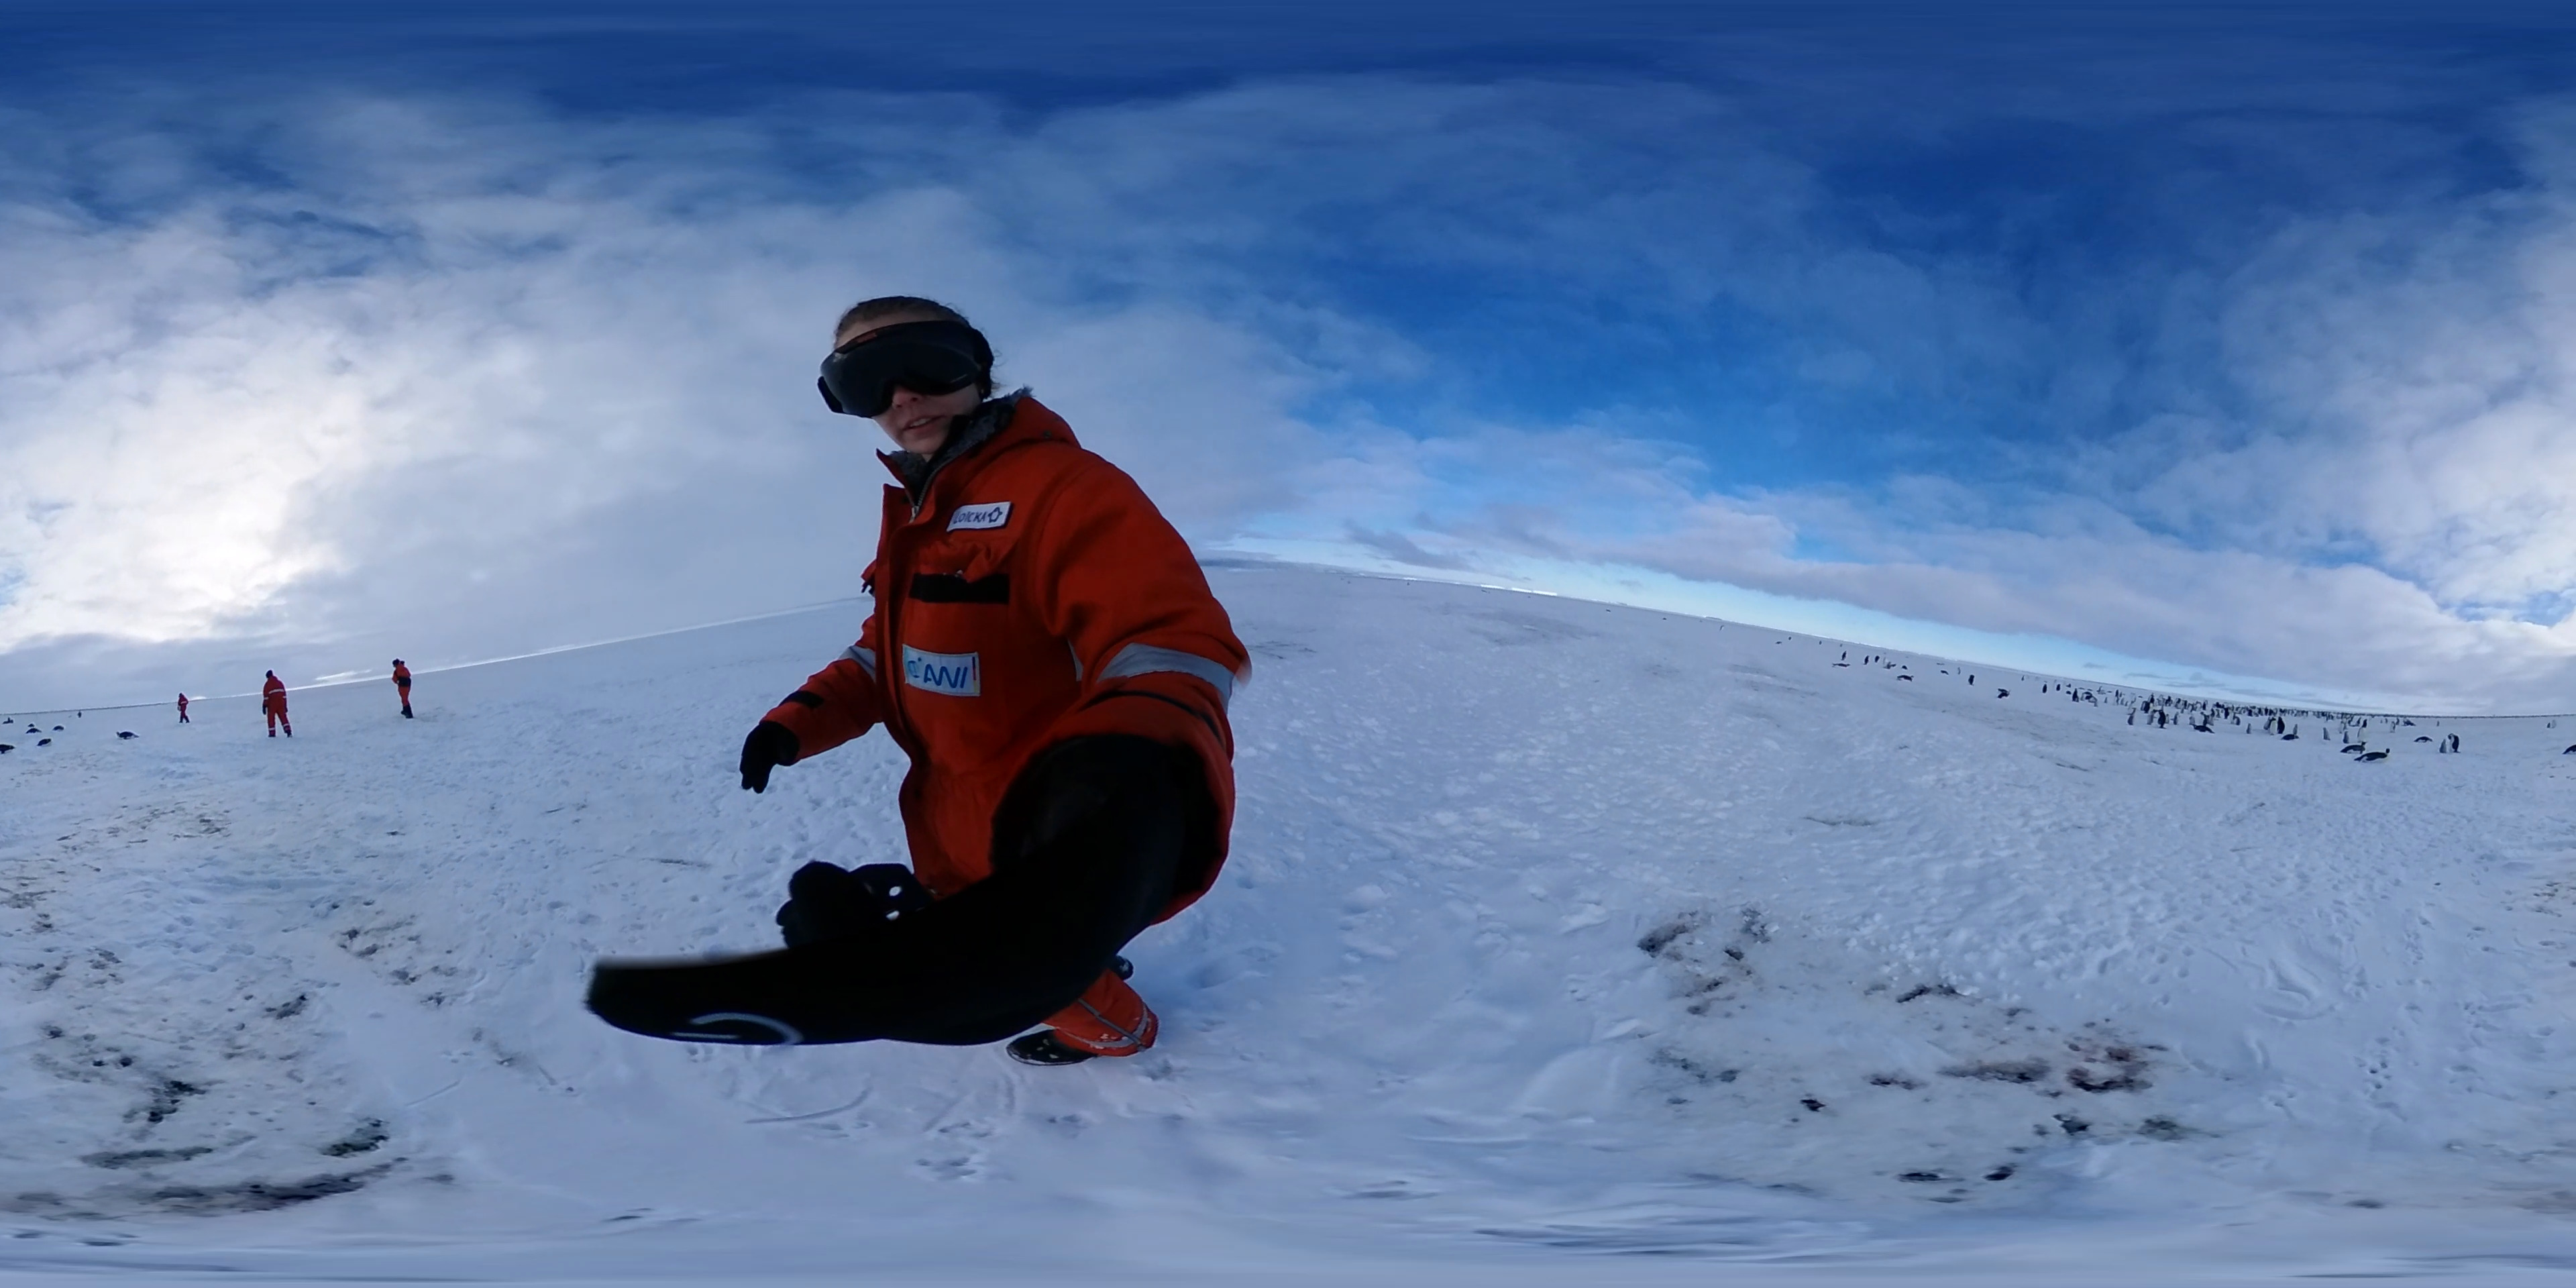adult_standing_penguin: (2448, 731, 2463, 757)
adult_toboggan_penguin: (2356, 746, 2390, 764), (2338, 739, 2367, 757), (113, 728, 140, 741), (1894, 670, 1912, 683), (2413, 734, 2433, 746), (38, 738, 53, 747)
juvenile_penguin: (2438, 736, 2448, 756), (2242, 721, 2252, 736), (2341, 731, 2351, 746), (2320, 724, 2328, 741)
researcher: (733, 291, 1252, 954), (261, 667, 297, 739), (391, 659, 419, 721), (174, 692, 194, 726)
